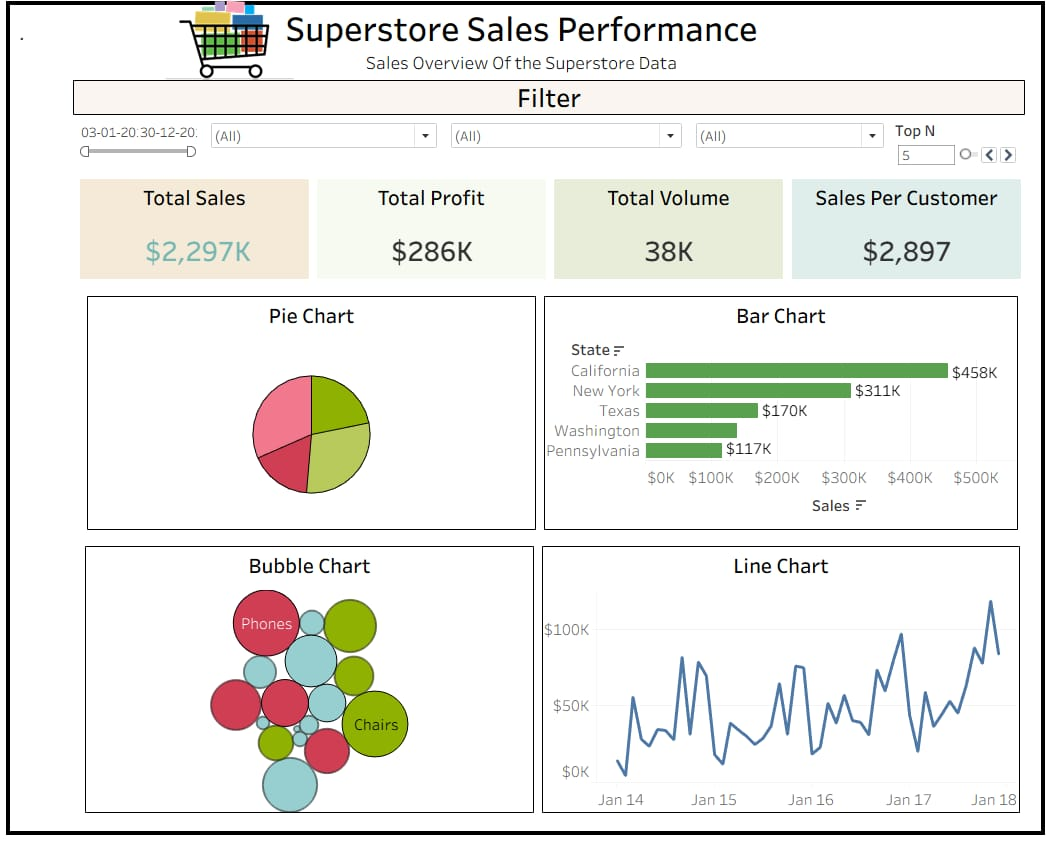

The dashboard page shown, as its layout file describes it:
{"tool":"tableau","page":{"name":"Sales Dashboard","canvas":[1055,850],"ordinal":0},"visuals":[{"type":"image","param":"Image/shopping-cart-20380.png","box":[167,7,129,102]},{"type":"text","box":[9,12,1036,69]},{"type":"worksheet","title":".","mark":"Automatic","box":[12,12,1031,826]},{"type":"text","box":[75,87,952,35]},{"type":"filter","title":".","param":"[federated.0w1i6y80lnk58e1adf8x01apiiin].[none:Order Date:qk]","box":[74,123,132,55]},{"type":"filter","title":".","param":"[federated.0w1i6y80lnk58e1adf8x01apiiin].[none:Segment:nk]","box":[206,123,240,55]},{"type":"filter","title":".","param":"[federated.0w1i6y80lnk58e1adf8x01apiiin].[none:Ship Mode:nk]","box":[446,123,245,55]},{"type":"filter","title":".","param":"[federated.0w1i6y80lnk58e1adf8x01apiiin].[none:State:nk]","box":[691,123,202,55]},{"type":"parameter","param":"[Parameters].[Category Parameter]","box":[893,123,132,55]},{"type":"worksheet","title":"Total Sales","mark":"Automatic","box":[78,182,237.2,108]},{"type":"worksheet","title":"Total Profit","mark":"Automatic","box":[315.2,182,237.2,108]},{"type":"worksheet","title":"Total Volume","mark":"Automatic","box":[552.5,182,237.2,108]},{"type":"worksheet","title":"S/C","mark":"Automatic","box":[789.7,182,237.2,108]},{"type":"worksheet","title":"Pie Chart","mark":"Pie","box":[85,299,457,242]},{"type":"worksheet","title":"Bar Chart","mark":"Automatic","rows":["State"],"cols":["Sales"],"box":[542,299,482,242]},{"type":"worksheet","title":"Bubble Chart","mark":"Circle","box":[83,549,457,275]},{"type":"worksheet","title":"Line Chart","mark":"Line","rows":["Sales"],"cols":["Order Date"],"box":[540,549,486,275]}]}

Visuals, with their boxes in screenshot pixels (x1, y1, x2, y2), scaled from the page's 1055x850 canvas onto the 1054x844 screenshot:
image: <box>167,7,296,108</box>
text: <box>9,12,1044,80</box>
"." worksheet: <box>12,12,1042,832</box>
text: <box>75,86,1026,121</box>
"." filter: <box>74,122,206,177</box>
"." filter: <box>206,122,446,177</box>
"." filter: <box>446,122,690,177</box>
"." filter: <box>690,122,892,177</box>
parameter: <box>892,122,1024,177</box>
"Total Sales" worksheet: <box>78,181,315,288</box>
"Total Profit" worksheet: <box>315,181,552,288</box>
"Total Volume" worksheet: <box>552,181,789,288</box>
"S/C" worksheet: <box>789,181,1026,288</box>
"Pie Chart" worksheet (Pie marks): <box>85,297,541,537</box>
"Bar Chart" worksheet: <box>541,297,1023,537</box>
"Bubble Chart" worksheet (Circle marks): <box>83,545,539,818</box>
"Line Chart" worksheet (Line marks): <box>539,545,1025,818</box>
